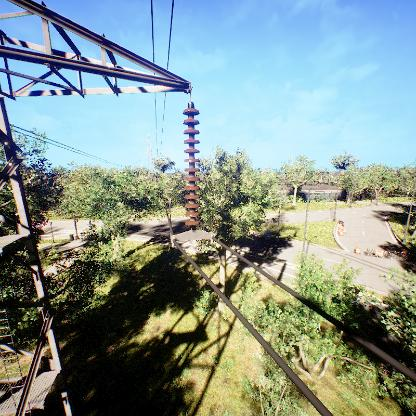insulator: (182, 105, 202, 231)
